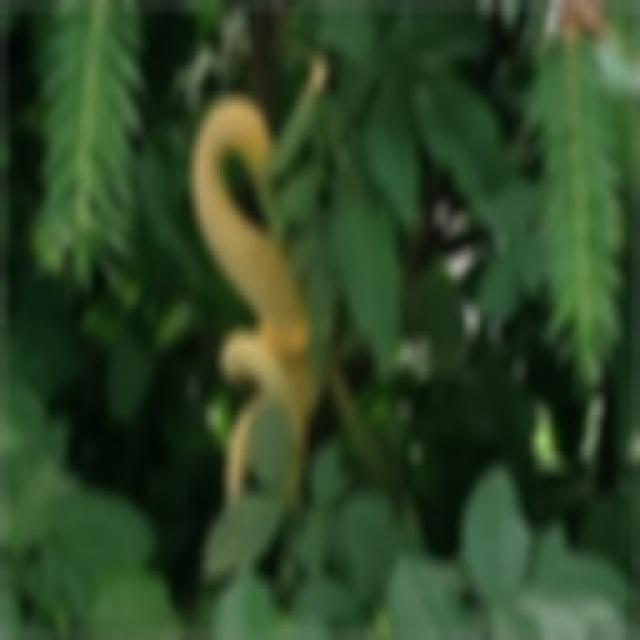Elderberry_rust: (185, 88, 325, 518)
